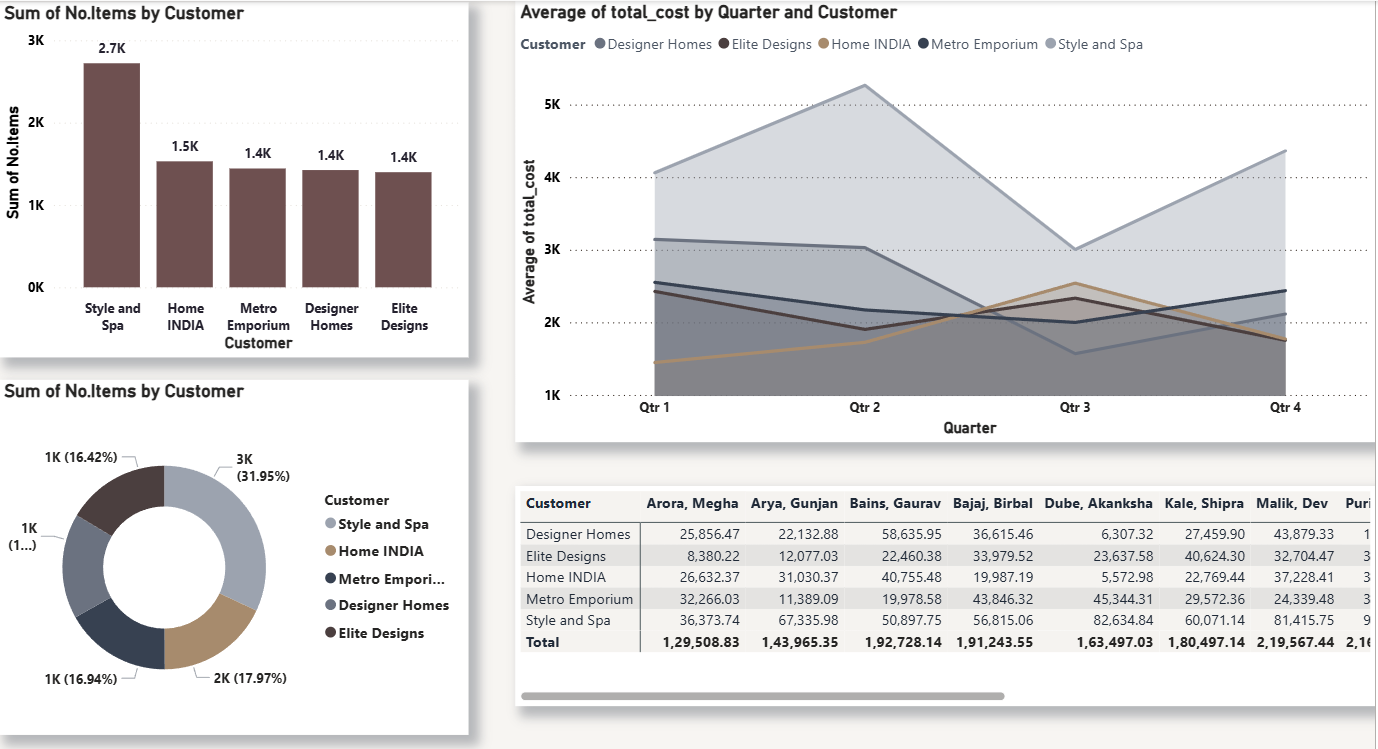

This screenshot's page, from the dashboard's own definition file:
{"tool":"powerbi","page":{"name":"Page 2","canvas":[1280,720],"ordinal":1},"visuals":[{"type":"columnChart","fields":{"Y":["Sum(Salesperson (Raw_Data).No.Items)"],"Category":["Salesperson (Raw_Data).Customer"]},"box":[0,1.2,436.6,330.2],"z":0},{"type":"donutChart","fields":{"Y":["Sum(Raw_Data.No.Items)"],"Category":["Raw_Data.Customer"]},"box":[0,352.3,436.7,330.6],"z":1000},{"type":"pivotTable","fields":{"Rows":["Raw_Data.Customer"],"Values":["Sum(Raw_Data.total_cost)"],"Columns":["Raw_Data.Salesperson"]},"box":[480.2,451.2,799.9,205.1],"z":2000},{"type":"areaChart","fields":{"Category":["Raw_Data.Date.Variation.Date Hierarchy.Quarter"],"Y":["Avg(Raw_Data.total_cost)"],"Series":["Raw_Data.Customer"]},"box":[480.2,0,799.9,410.2],"z":3000}]}

Visuals, with their boxes on the page's 1280x720 design canvas (x1, y1, x2, y2). These are canvas units, not pixel positions in the 1378x749 screenshot, which may show the page scaled, cropped or inside an application window:
columnChart - Sum(Salesperson (Raw_Data).No.Items) x Salesperson (Raw_Data).Customer: box=[0, 1, 437, 331]
donutChart - Sum(Raw_Data.No.Items) x Raw_Data.Customer: box=[0, 352, 437, 683]
pivotTable - Raw_Data.Customer x Sum(Raw_Data.total_cost): box=[480, 451, 1280, 656]
areaChart - Raw_Data.Date.Variation.Date Hierarchy.Quarter x Avg(Raw_Data.total_cost): box=[480, 0, 1280, 410]
